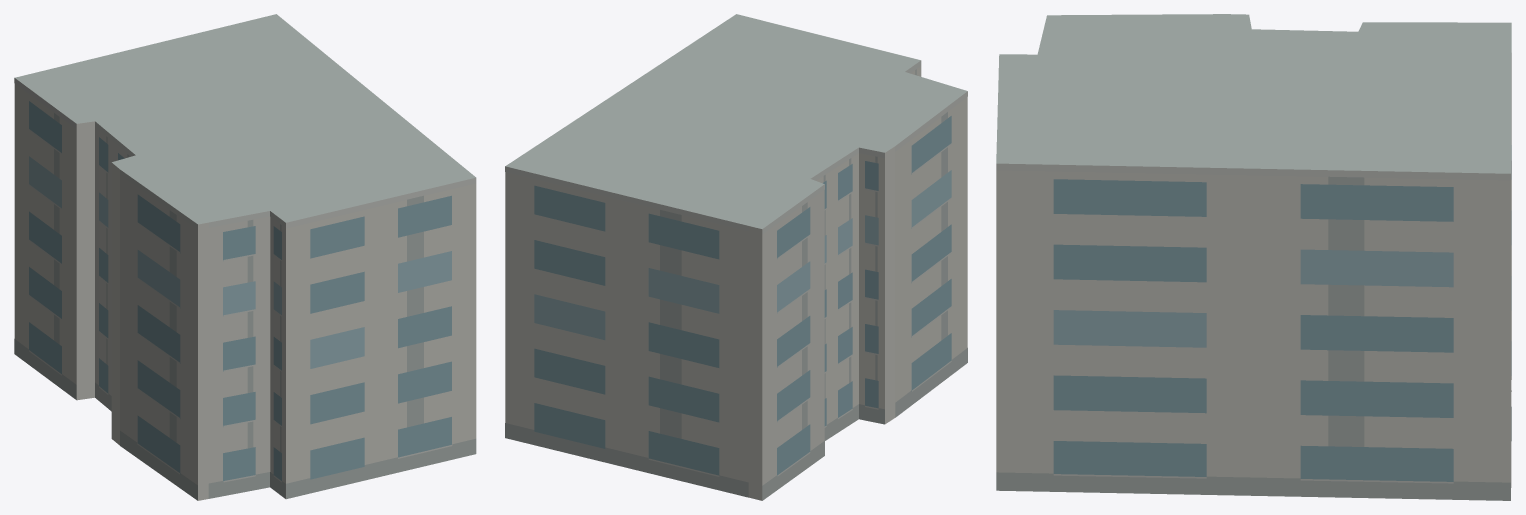
File: survey-upis-32663330.glb
3 renders of one model, left to right at view 1: azimuth 30°, elevation 25°; view 2: azimuth 150°, elevation 25°; view 3: azimuth 270°, elevation 25°, orthographic. The views are drawn at different scales.
Visible parts, largest first — view 1: survey-upis-32663330.tmp; view 2: survey-upis-32663330.tmp; view 3: survey-upis-32663330.tmp.
Part boxes in pixels (x1=…): survey-upis-32663330.tmp: x1=14, y1=14, x2=476, y2=500; survey-upis-32663330.tmp: x1=505, y1=14, x2=967, y2=500; survey-upis-32663330.tmp: x1=996, y1=14, x2=1511, y2=500.
Bounding box in the file's own units: 12.58 × 12 × 17.15.
